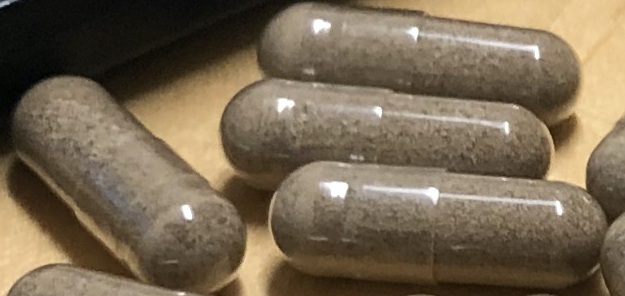capsule: (14, 77, 248, 291), (270, 161, 609, 290), (257, 1, 585, 124), (218, 77, 555, 189)
